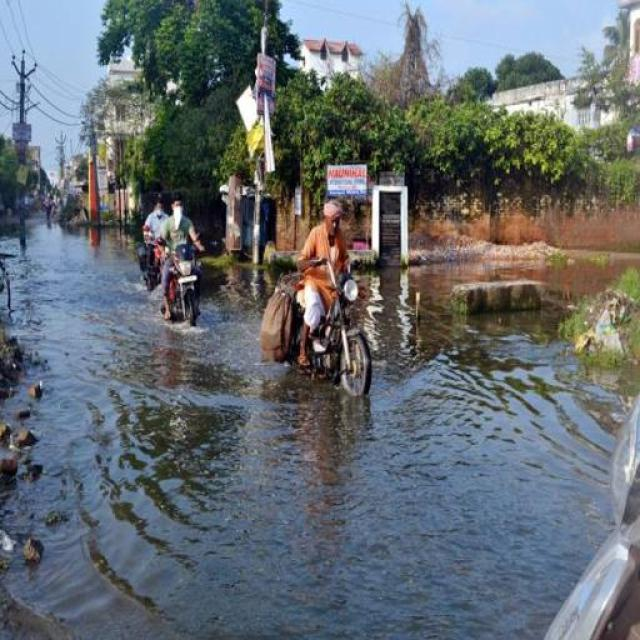puddle: (70, 374, 506, 635), (413, 314, 597, 640), (18, 221, 135, 640), (555, 265, 593, 294)
